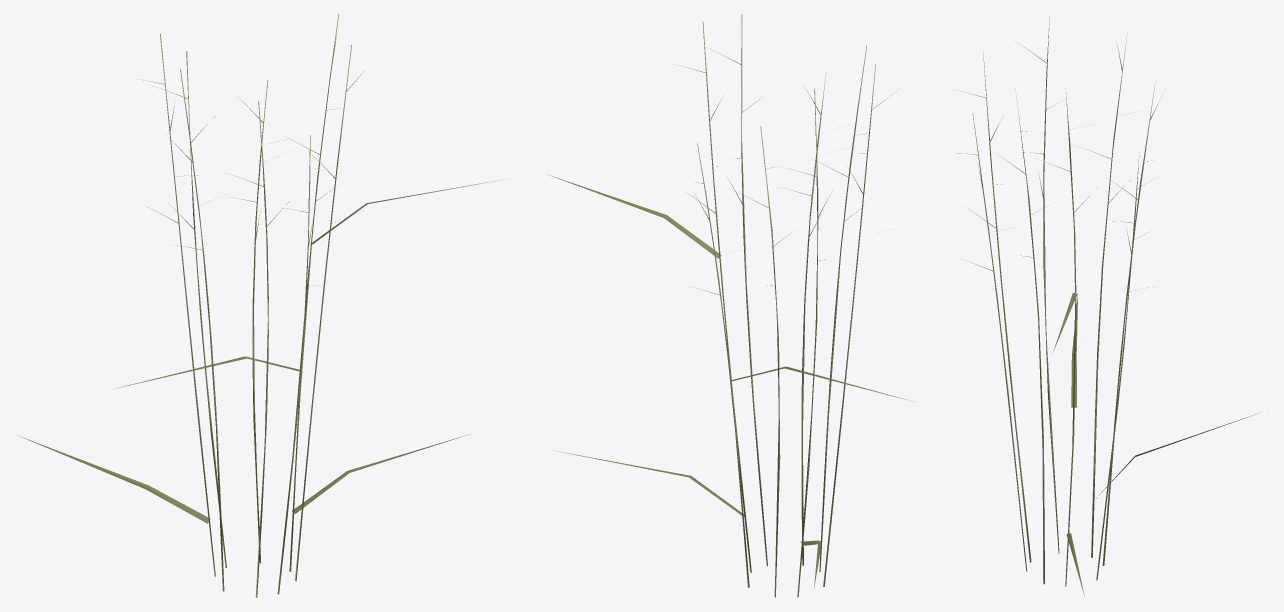
Rendered from Brize_1_Niveau2.fbx.
3 views of the same model, side by side, from view 1: azimuth 30°, elevation 25°; view 2: azimuth 150°, elevation 25°; view 3: azimuth 270°, elevation 25° (orthographic). The views are drawn at different scales.
Visible parts, largest first — view 1: Brize_1_Niveau2; view 2: Brize_1_Niveau2; view 3: Brize_1_Niveau2.
Boxes of the visible parts, left/top/right/bottom form: Brize_1_Niveau2: left=18, top=14, right=502, bottom=597; Brize_1_Niveau2: left=549, top=14, right=914, bottom=597; Brize_1_Niveau2: left=953, top=17, right=1257, bottom=595.
Size of the model in its own units: 42.33 by 55.95 by 31.07.
